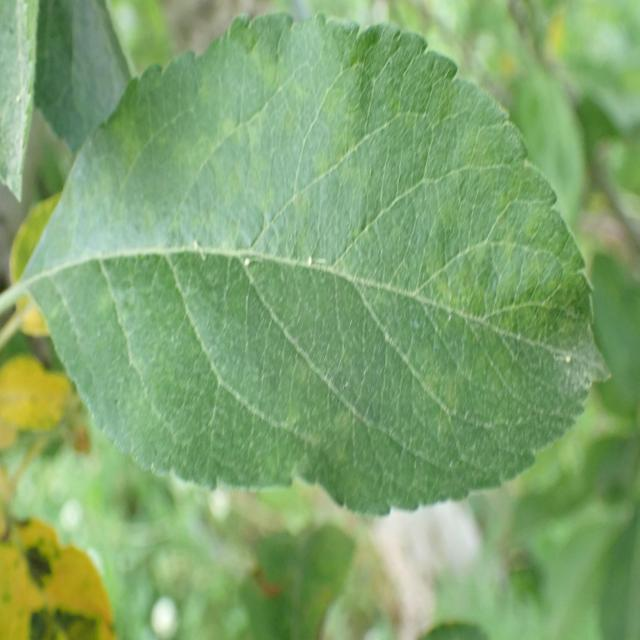scab: (77, 37, 578, 490)
